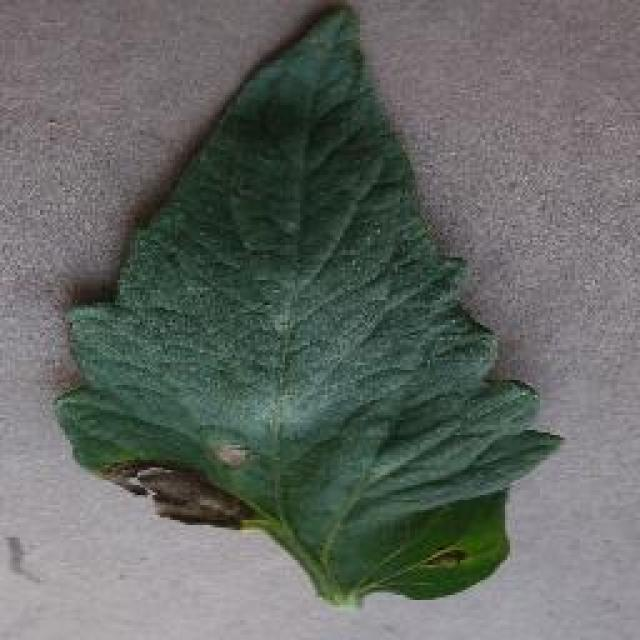Tomato___Early_blight: (47, 7, 573, 609)
